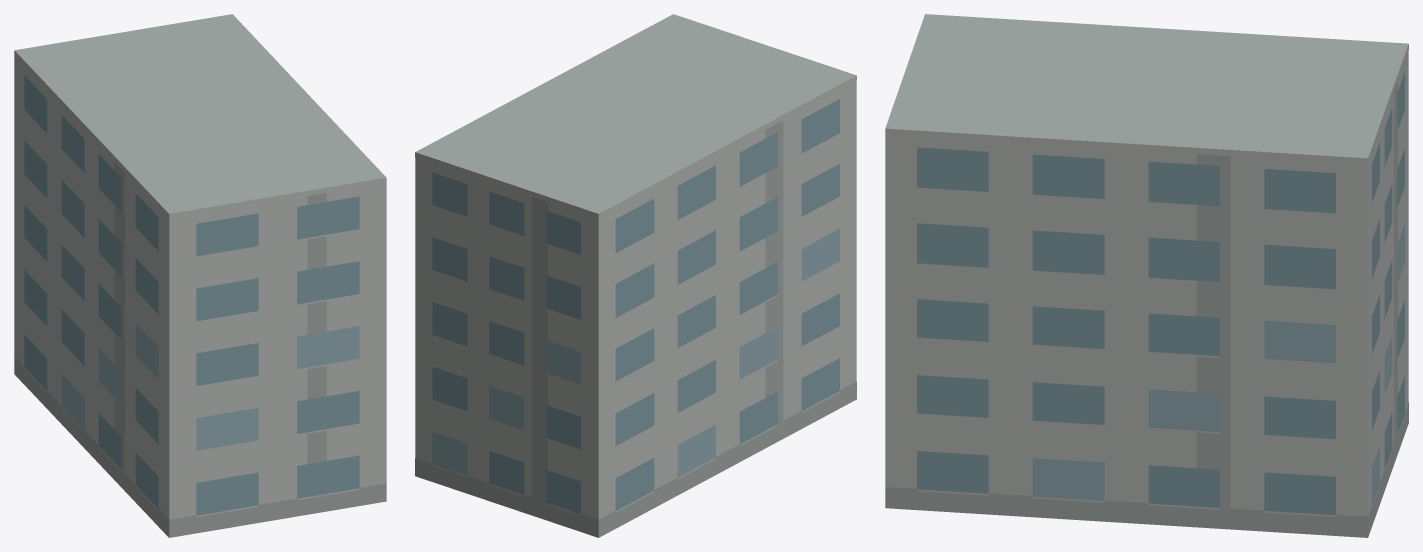
Rendered from survey-upis-32826618.glb.
3 views of the same model, side by side, from view 1: azimuth 30°, elevation 25°; view 2: azimuth 150°, elevation 25°; view 3: azimuth 270°, elevation 25° (orthographic). The views are drawn at different scales.
Visible parts, largest first — view 1: survey-upis-32826618.tmp; view 2: survey-upis-32826618.tmp; view 3: survey-upis-32826618.tmp.
Part boxes in pixels (x1,y1,x2,y2): survey-upis-32826618.tmp: (14,14,386,537); survey-upis-32826618.tmp: (415,14,856,537); survey-upis-32826618.tmp: (885,14,1408,537).
Bounding box in the file's own units: 12.08 × 14.8 × 18.51.
